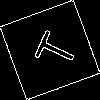T: (25, 25, 80, 72)
